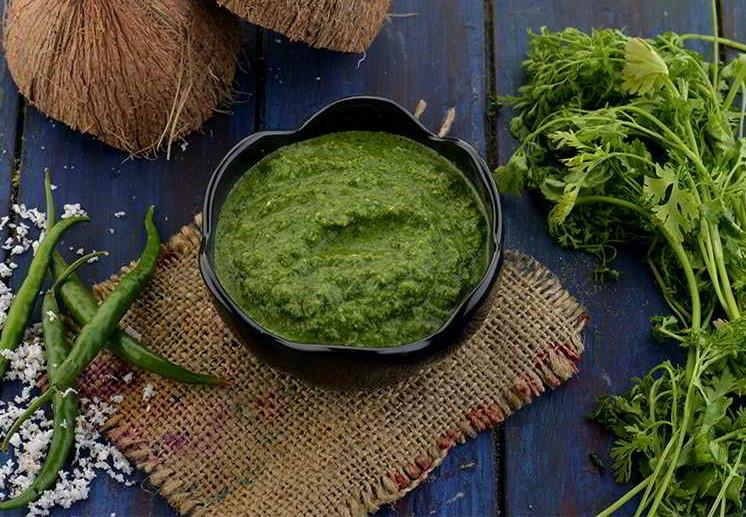GreenChutney: (210, 127, 487, 347)
